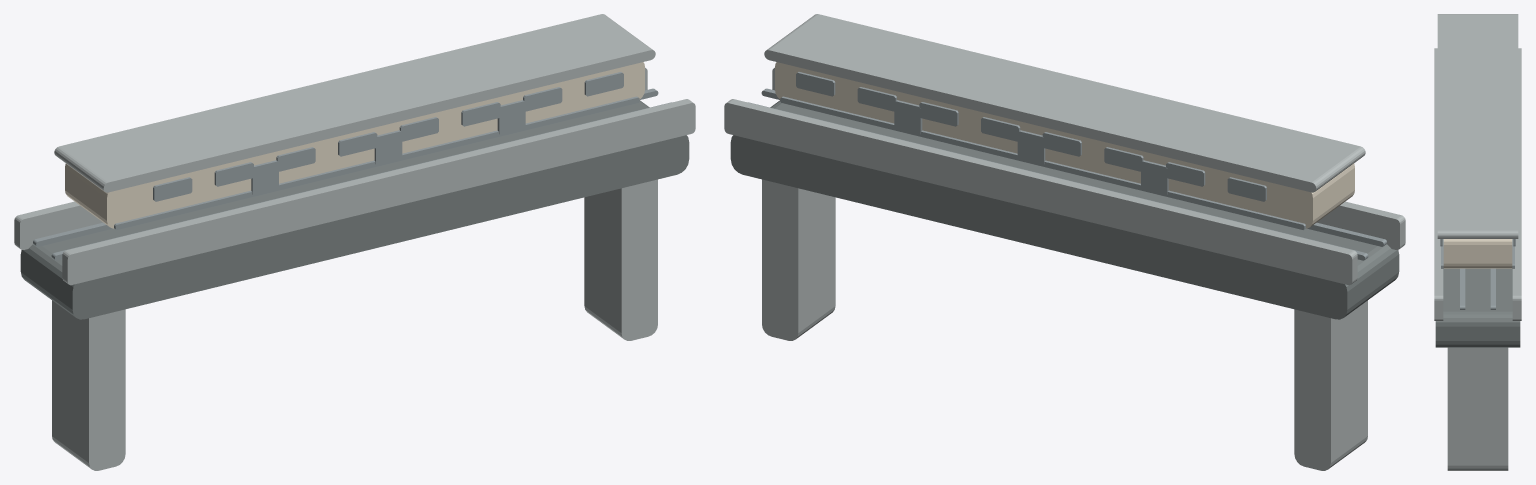
File: rail-span.glb
The picture shows the model from 3 angles, left to right: view 1: azimuth 30°, elevation 25°; view 2: azimuth 150°, elevation 25°; view 3: azimuth 270°, elevation 25°; orthographic projection. The views are drawn at different scales.
Visible parts, largest first — view 1: parapets, rounded_beam, twin_piers, two_rails, carriage_body; view 2: parapets, rounded_beam, twin_piers, two_rails, carriage_body; view 3: parapets, twin_piers, rounded_beam, carriage_body, two_rails.
Part boxes in pixels (<box>): parapets: <box>14,14,695,285</box>; rounded_beam: <box>20,100,689,319</box>; twin_piers: <box>52,179,657,470</box>; two_rails: <box>33,72,671,260</box>; carriage_body: <box>65,62,644,228</box>; parapets: <box>724,14,1405,285</box>; rounded_beam: <box>730,100,1399,319</box>; twin_piers: <box>762,179,1367,470</box>; two_rails: <box>748,72,1386,260</box>; carriage_body: <box>775,62,1354,228</box>; parapets: <box>1434,14,1521,320</box>; twin_piers: <box>1447,347,1508,470</box>; rounded_beam: <box>1435,268,1520,347</box>; carriage_body: <box>1443,239,1512,268</box>; two_rails: <box>1440,239,1515,309</box>.
Bounding box in the file's own units: 22.4 × 9.95 × 3.3.
